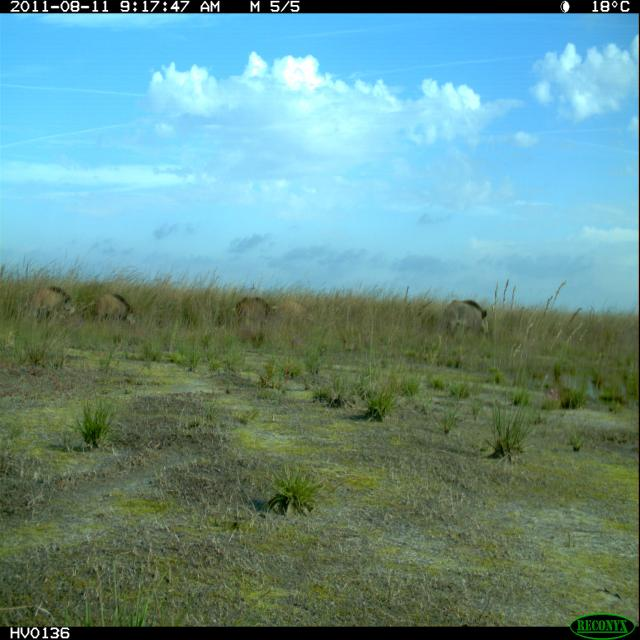boar: (432, 286, 501, 358), (222, 288, 286, 345), (33, 270, 80, 336), (91, 282, 135, 331)
